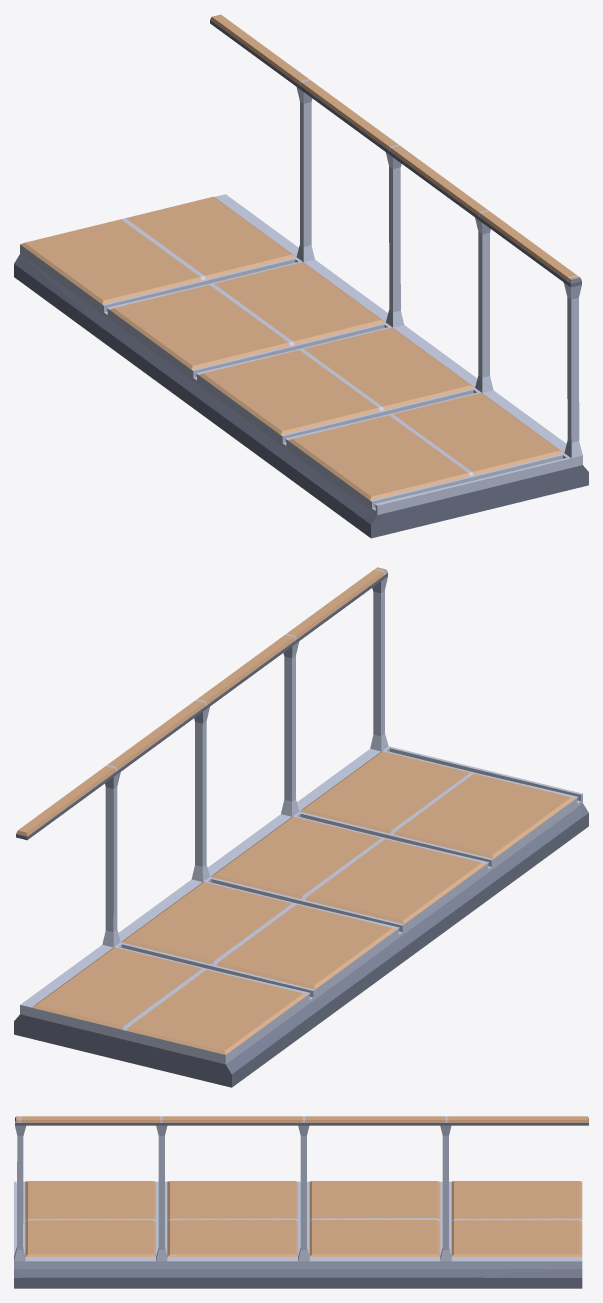
Rendered from walkwaylvl1.FBX.
The picture shows the model from 3 angles, top to bottom: view 1: azimuth 30°, elevation 25°; view 2: azimuth 150°, elevation 25°; view 3: azimuth 270°, elevation 25°; orthographic projection. The views are drawn at different scales.
Visible parts, largest first — view 1: walkway1; view 2: walkway1; view 3: walkway1.
Boxes of the visible parts, box(x1,y1,x2,y2) form: walkway1: box(14, 14, 588, 538); walkway1: box(14, 567, 588, 1087); walkway1: box(14, 1116, 588, 1288).
Size of the model in its own units: 137 by 126 by 394.
